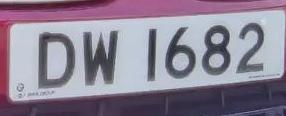1: (137, 19, 165, 92)
2: (235, 15, 268, 79)
6: (160, 19, 200, 86)
8: (197, 17, 236, 79)
D: (27, 24, 82, 98)
W: (78, 22, 124, 96)
